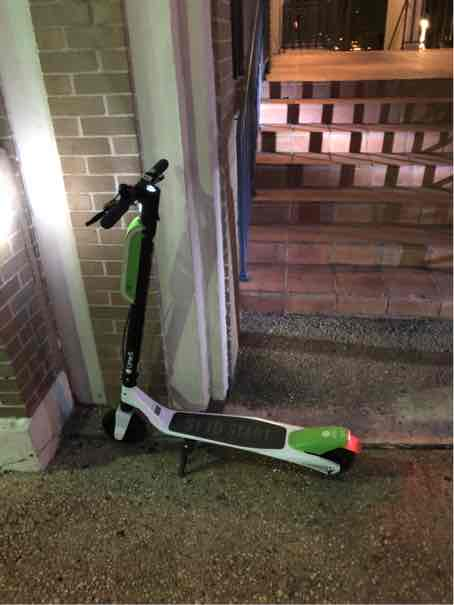scooter: (82, 150, 361, 489)
